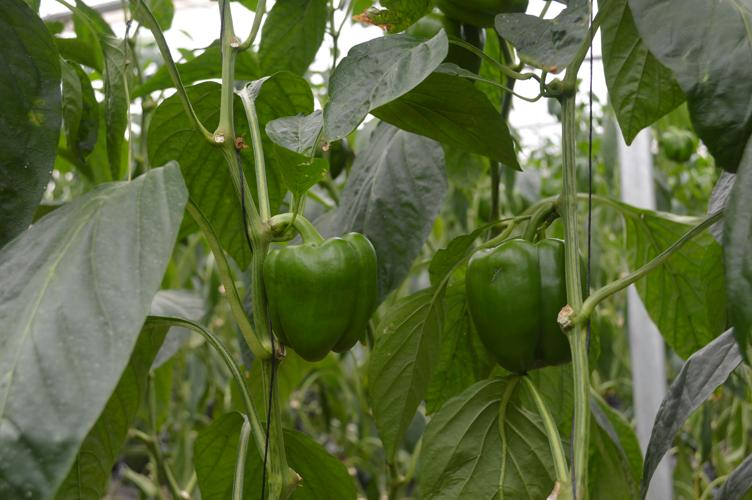BellPepper: (456, 228, 600, 381), (255, 229, 380, 358)
